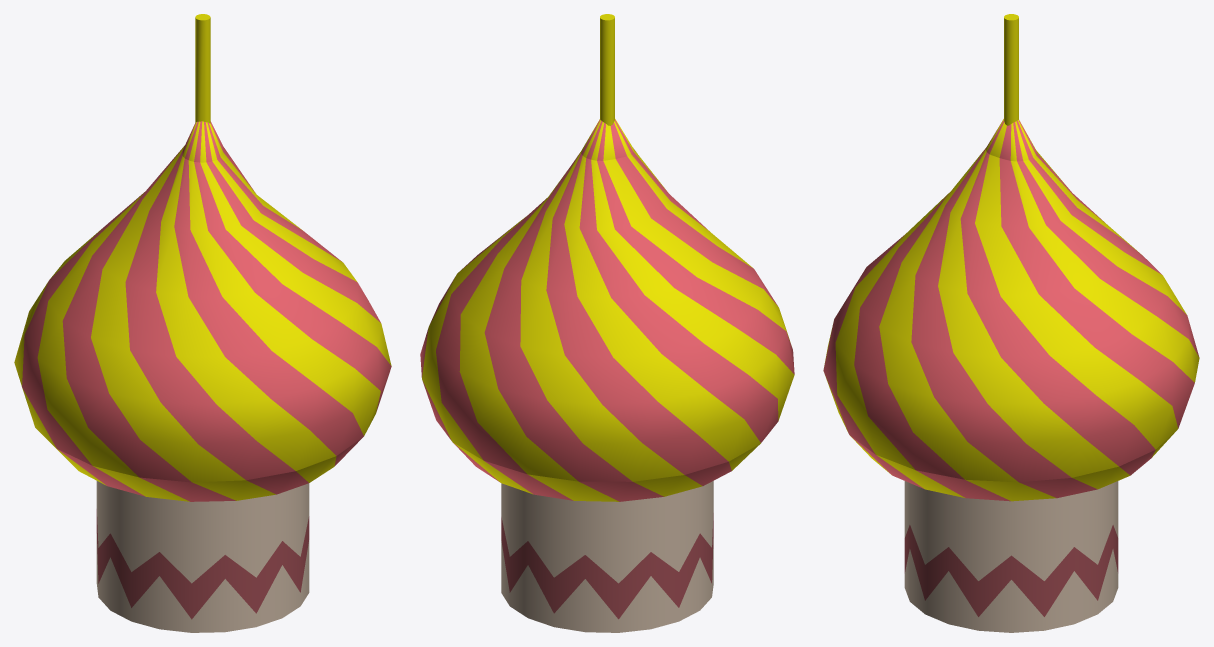
Rendered from russie_tour1.fbx.
3 views of the same model, side by side, from view 1: azimuth 30°, elevation 25°; view 2: azimuth 150°, elevation 25°; view 3: azimuth 270°, elevation 25° (orthographic).
Parts seen in each view (by area): view 1: pCylinder4; view 2: pCylinder4; view 3: pCylinder4.
Boxes of the visible parts, <box> form: pCylinder4: <box>14,14,391,632</box>; pCylinder4: <box>420,14,794,632</box>; pCylinder4: <box>823,14,1199,632</box>.
Size of the model in its own units: 3.21 by 5.37 by 3.21.
